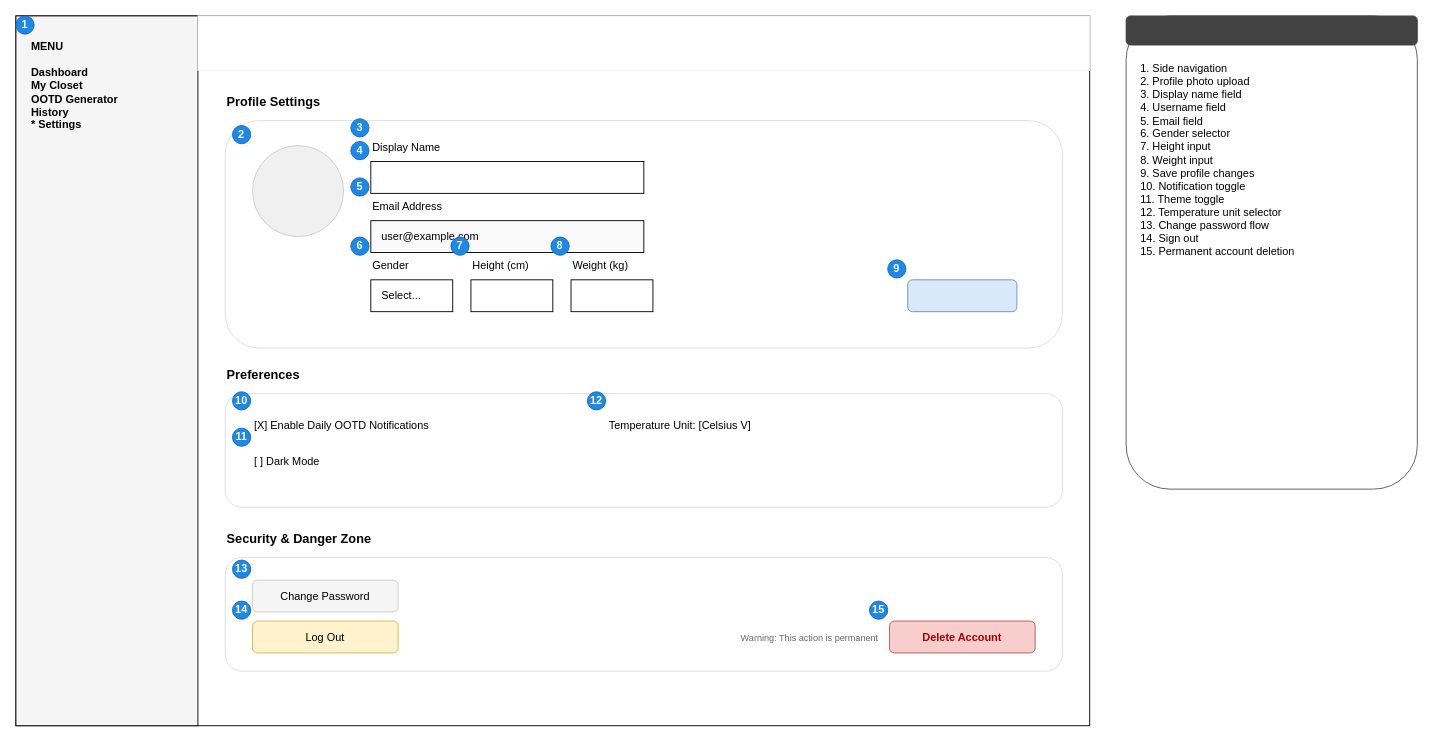
Some shapes in this 1433 by 742 pixel diagram are drawn without their labels. The shapes that lost their labels are listed below. From the top down, each one's centre as x and y in pixels, then its label:
At pixel 643 43: "Account Settings".
At pixel 1271 30: "Annotated Notes".
At pixel 298 191: "Avatar".
At pixel 507 177: "User Name".
At pixel 962 295: "Update Profile".
